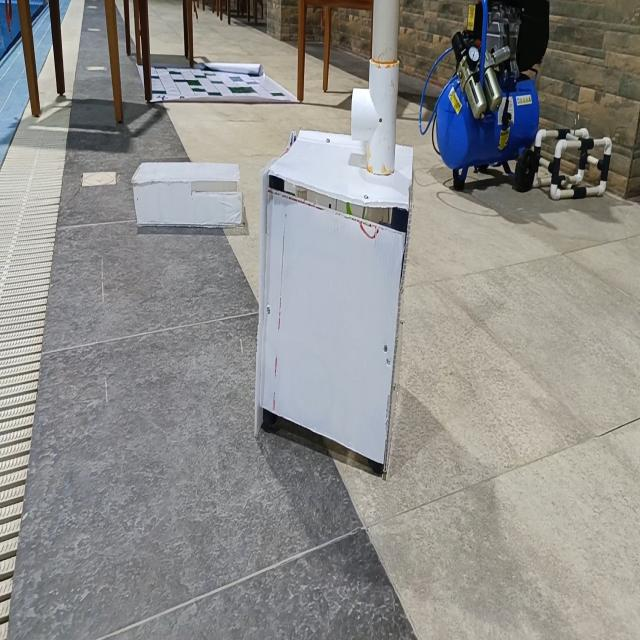Cube: (255, 117, 422, 469)
Cuboid: (130, 160, 244, 228)
